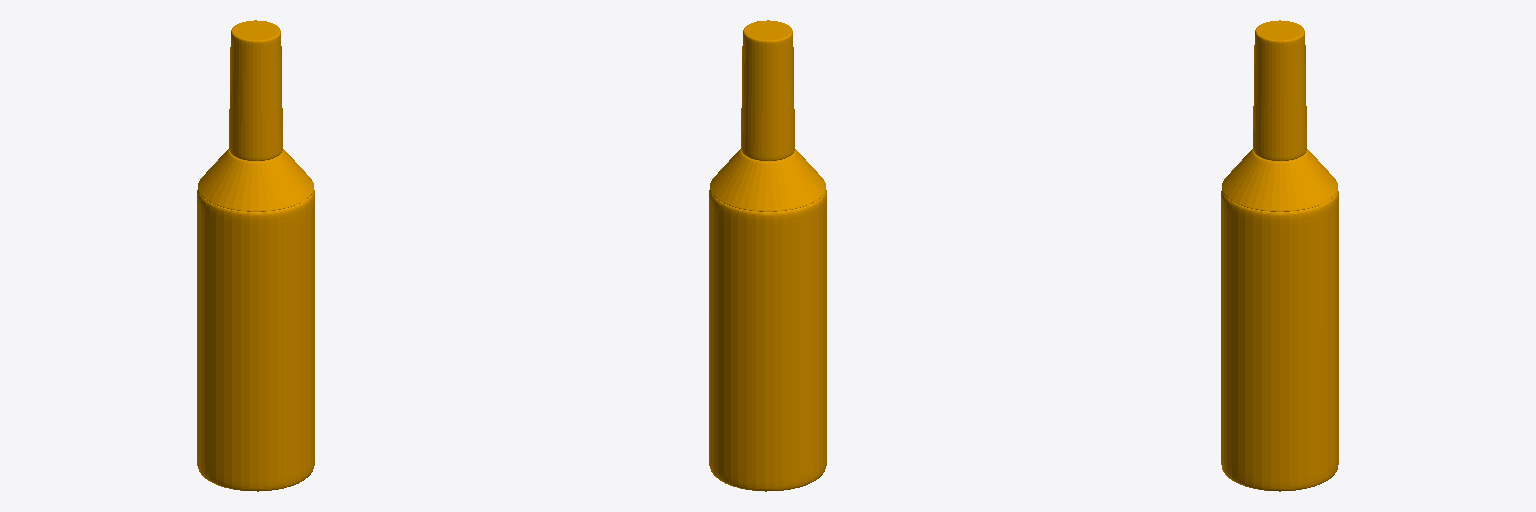
robot.urdf — object_263626605:

		<robot name="object_263626605">
			<link name="link_object_263626605">
				<visual>
					<geometry>
						<mesh filename="temp_object_263626605.obj" />
					</geometry>
				</visual>

				<collision>
					<geometry>
						<mesh filename="temp_object_263626605.obj" />
					</geometry>
				</collision>
				
				<inertial>
					<origin rpy="0 0 0" xyz="0 0 0"/>
					<mass value="0.3" />
					<inertia ixx="0.3" ixy="0" ixz="0" iyy="0.3" iyz="0" izz="0.3" />
				</inertial>
			</link>
		</robot>
		

--- Facts derived from the render (not from the file) ---
3 views of the same robot in one strip: view 1: azimuth 30°, elevation 25°; view 2: azimuth 150°, elevation 25°; view 3: azimuth 270°, elevation 25° (orthographic).
Model object_263626605 with 1 links and 0 joints (none), rooted at link_object_263626605, posed all joints at 0.
Links seen in each view (by area): view 1: link_object_263626605; view 2: link_object_263626605; view 3: link_object_263626605.
Boxes of the visible links, left/top/right/bottom form: link_object_263626605: left=197, top=20, right=314, bottom=491; link_object_263626605: left=709, top=20, right=826, bottom=491; link_object_263626605: left=1221, top=20, right=1338, bottom=491.
Bounding box of the posed robot: 0.0704 × 0.0704 × 0.287 m (x, y, z).
1 mesh visuals loaded from 1 distinct referenced files (1 OBJ).
